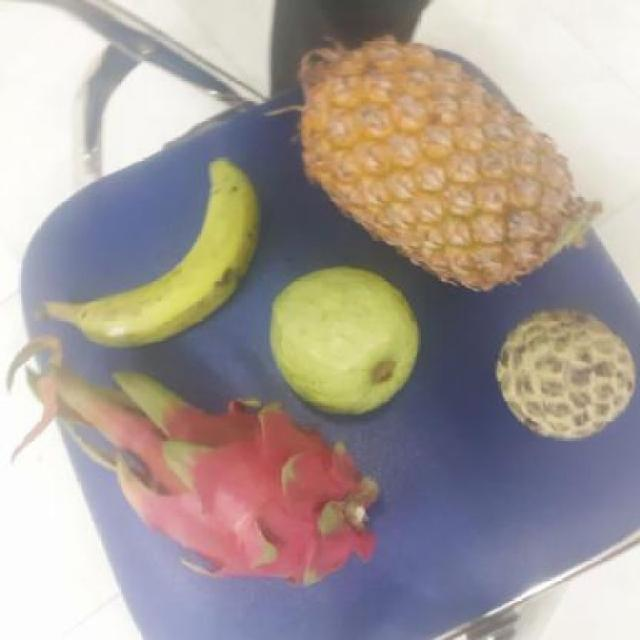dragon fruit: (113, 388, 376, 586)
guava: (266, 273, 419, 415)
pineapple: (290, 37, 588, 286)
sugar apple: (491, 311, 637, 438)
